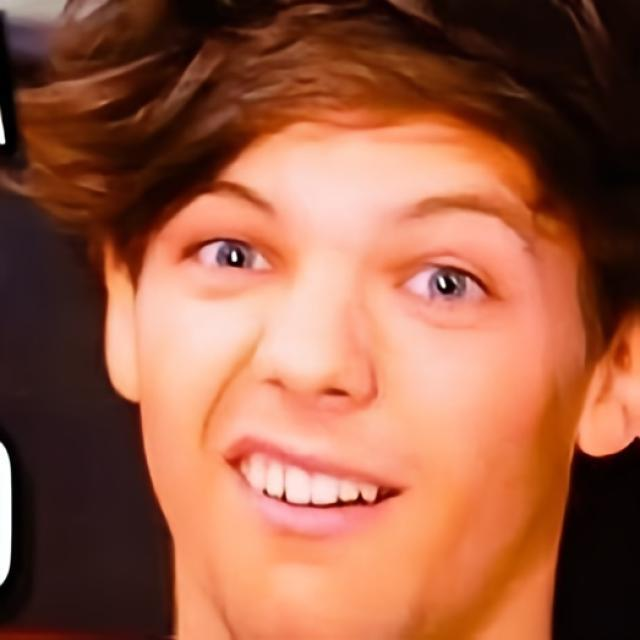surprise: (134, 102, 572, 639)
